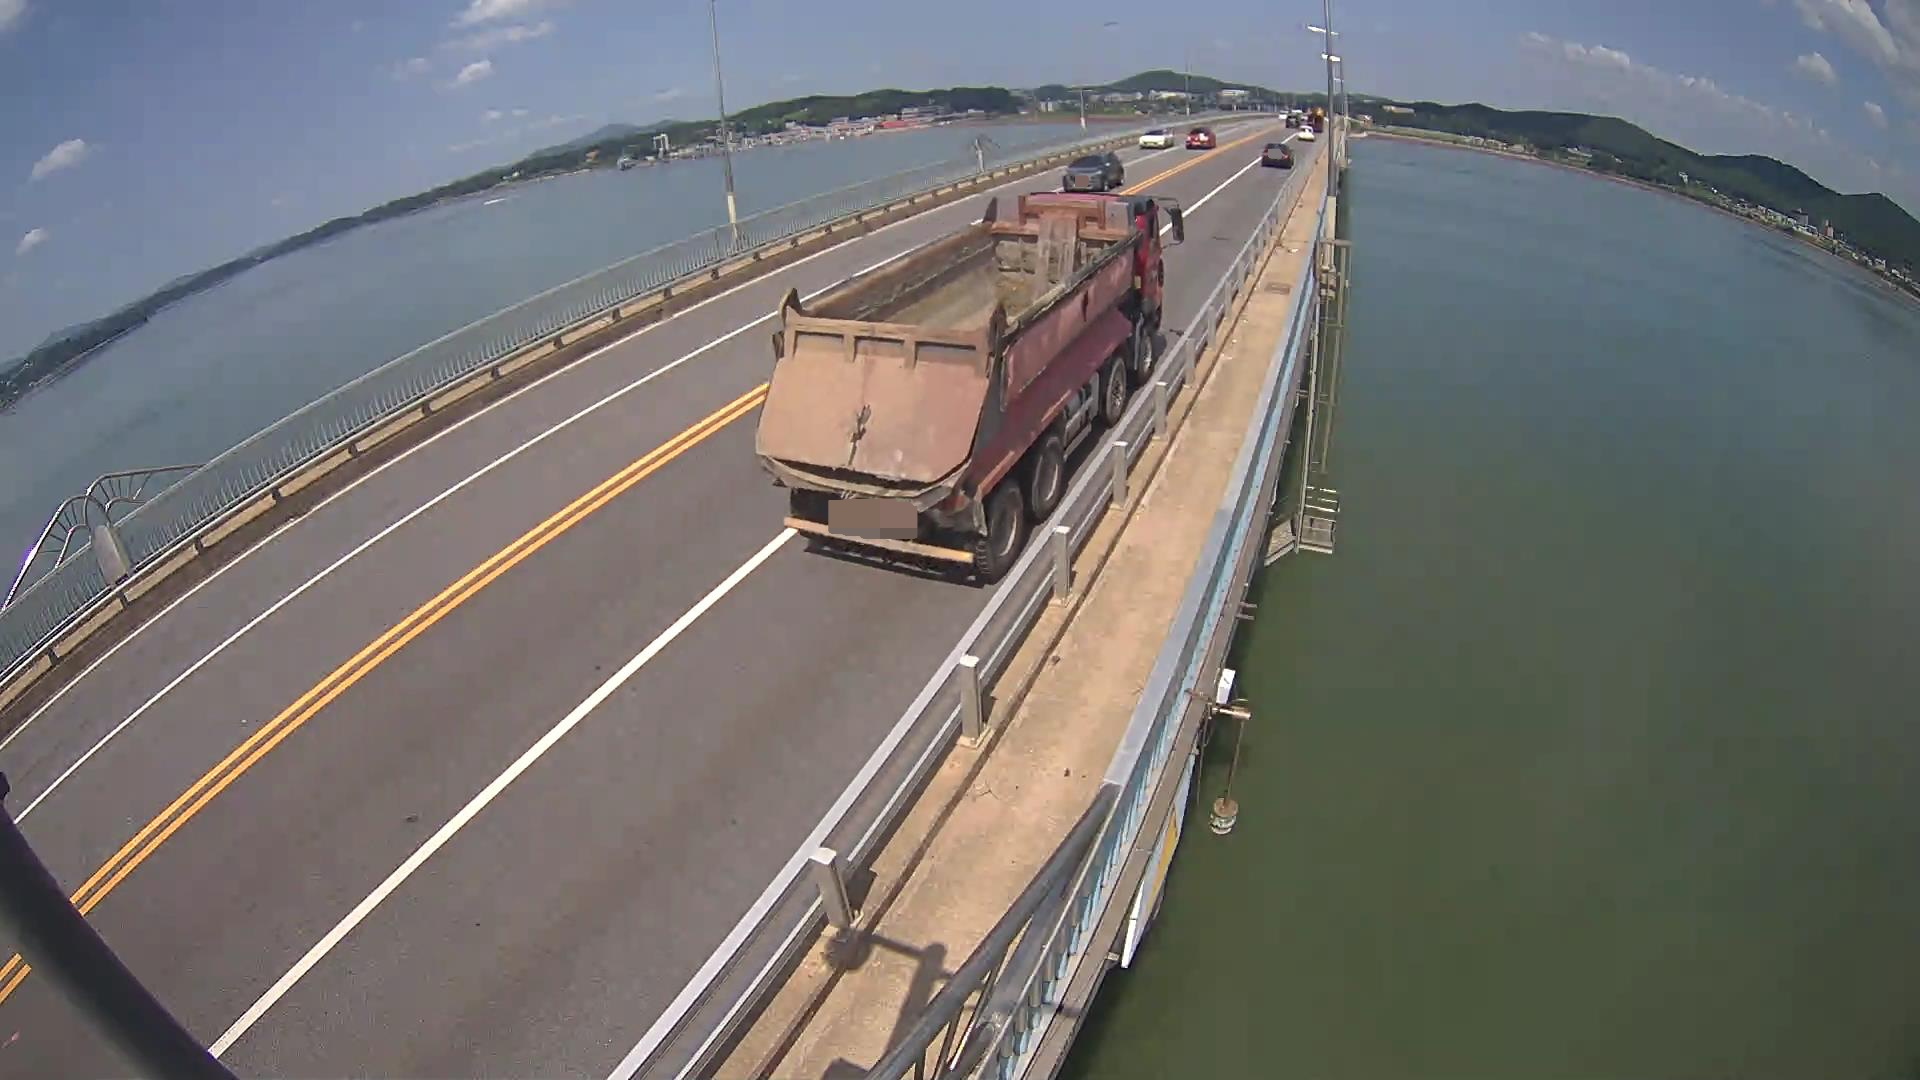정상차량: (754, 191, 1183, 585)
